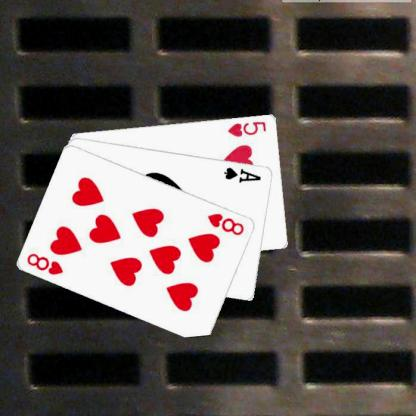5H: (225, 118, 268, 138)
8H: (205, 210, 246, 236), (24, 250, 65, 276)
AS: (222, 165, 263, 184)
